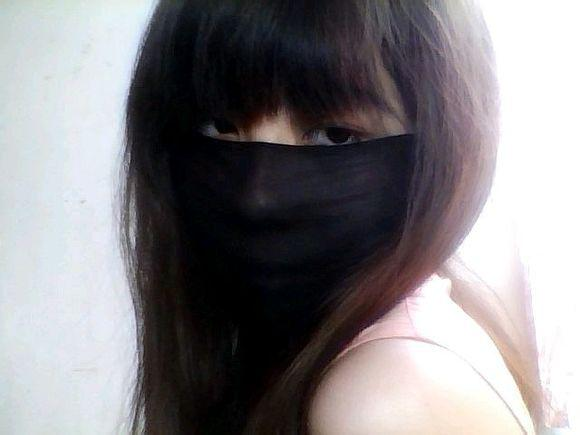OK: (182, 71, 407, 296)
